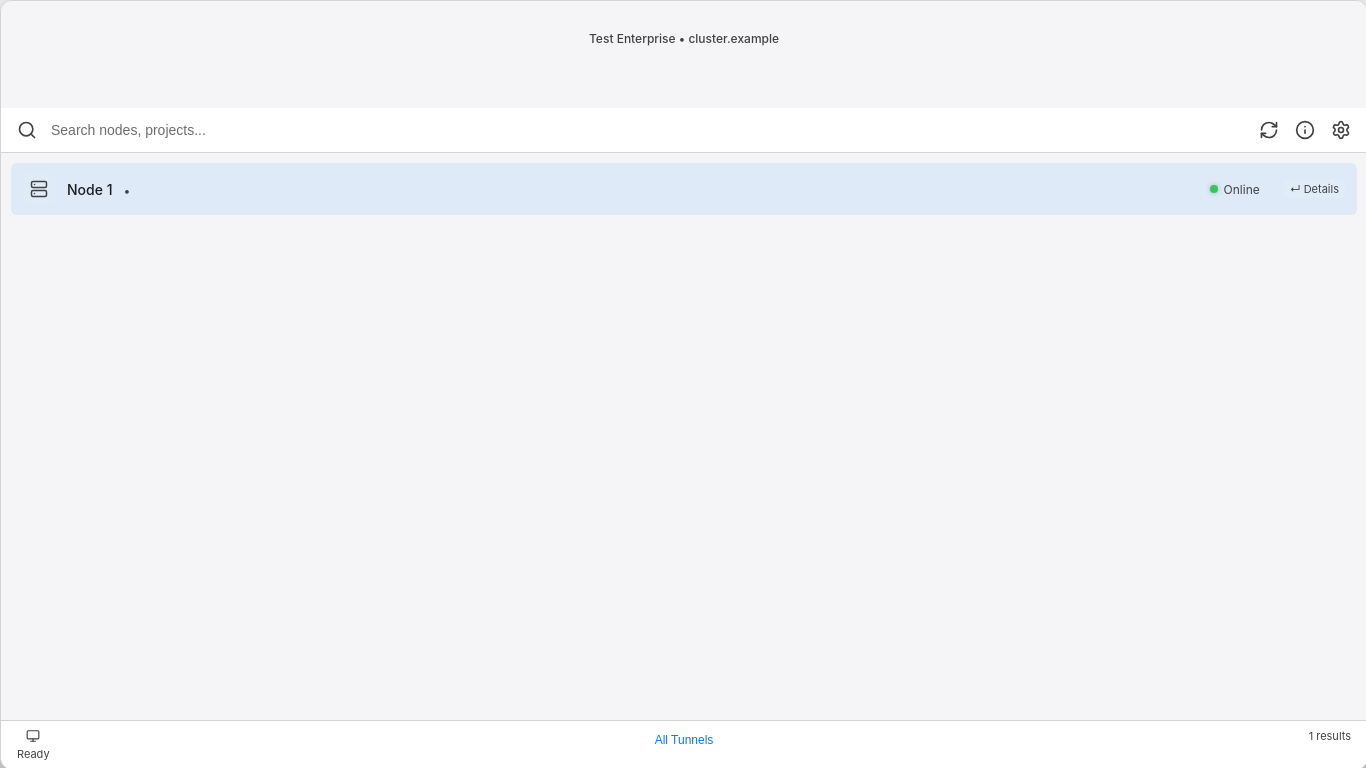
Scenario: App configuration and tunnels › shows inline error in SSH modal on connection failure
The width and height of the screenshot is (1366, 768).
Click the text "Node 1": click(99, 189) [67, 180, 130, 198]
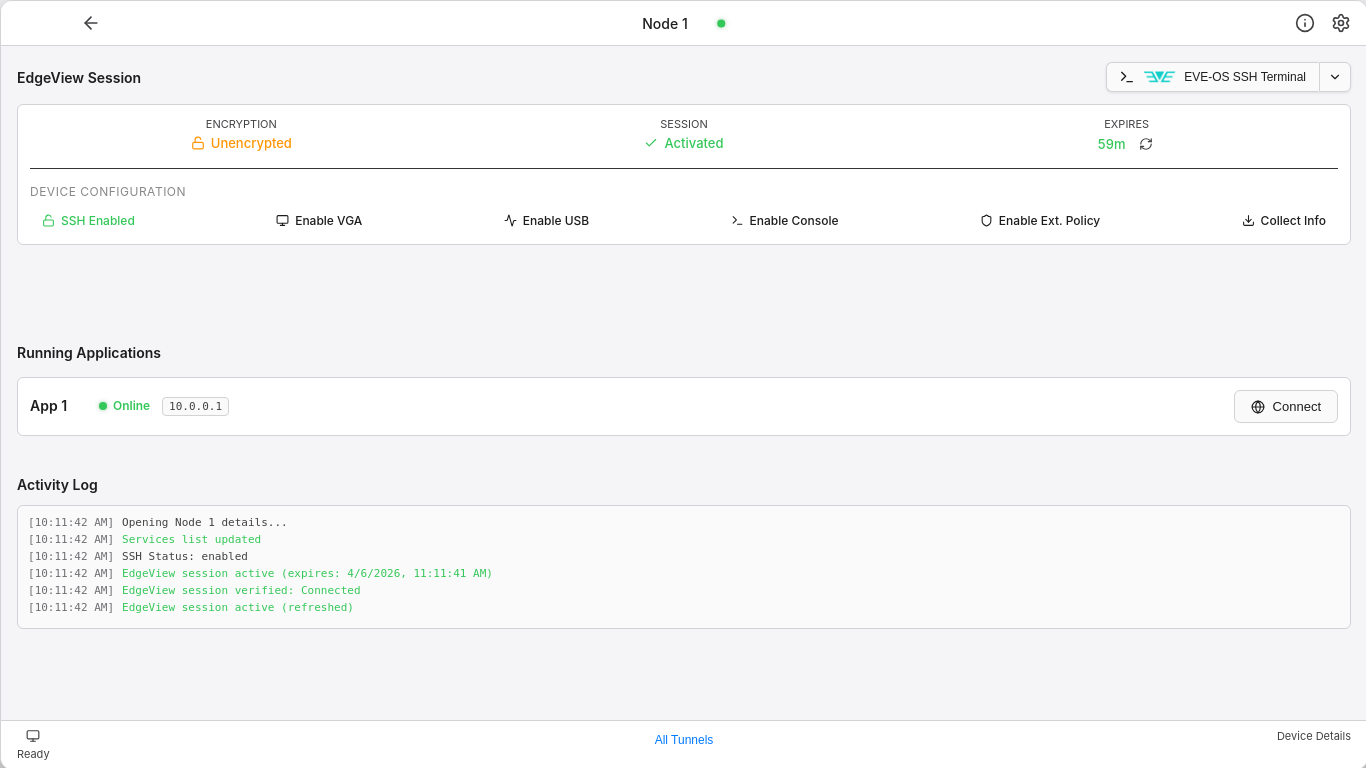
Expected: the heading "Running Applications" is shown, [17, 344, 161, 361]
Click the button "Connect": click(1286, 406) [1234, 390, 1338, 423]
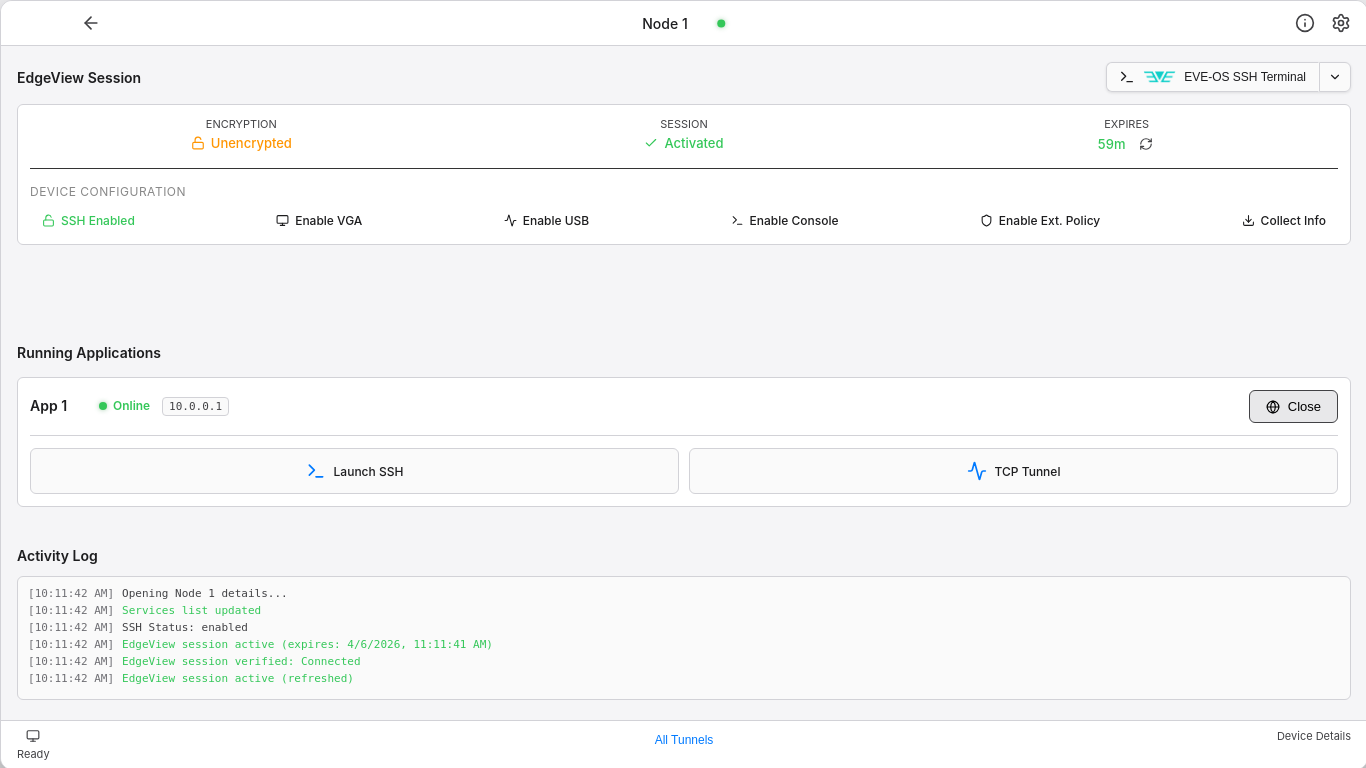
Click the button "Launch SSH": click(354, 471) [30, 448, 679, 494]
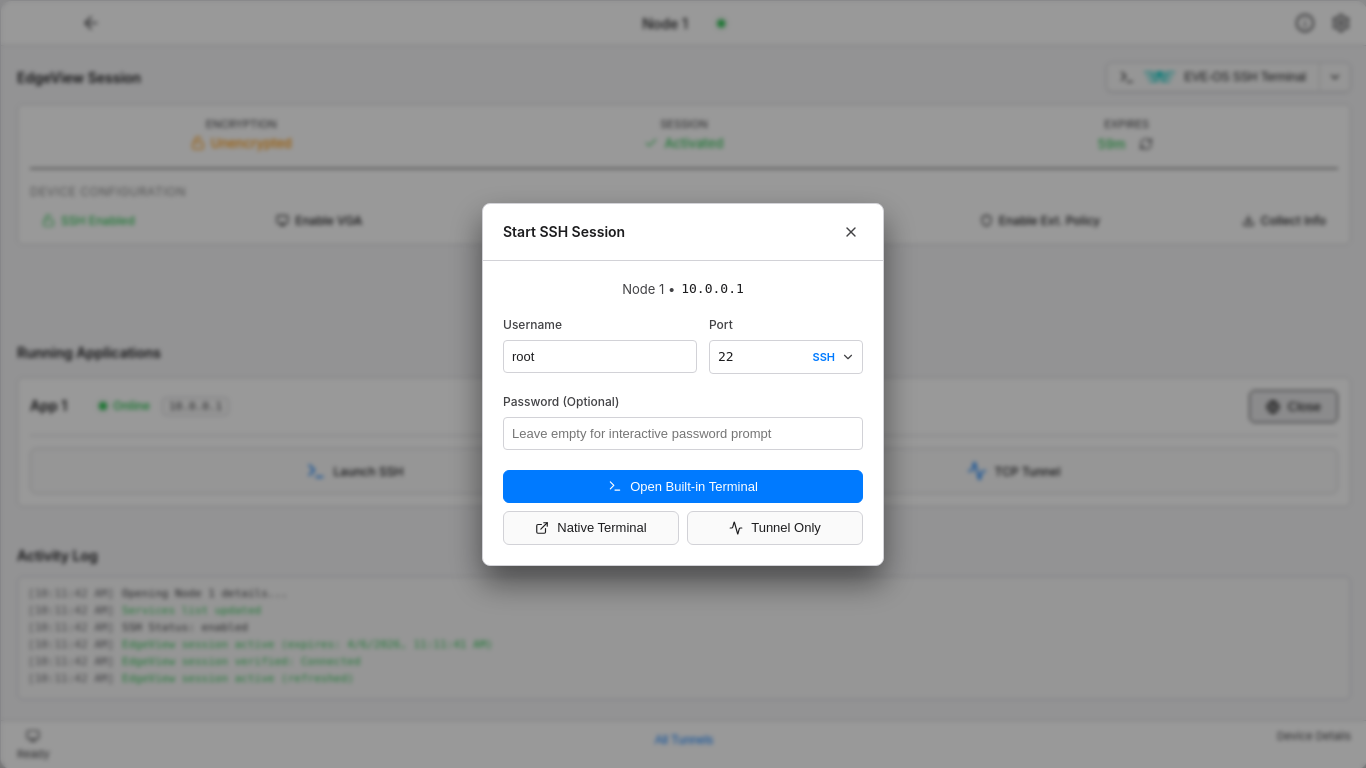
Expected: the heading "Start SSH Session" is shown, [503, 223, 625, 240]
Click the button "Open Built-in Terminal": click(683, 486) [503, 470, 863, 503]
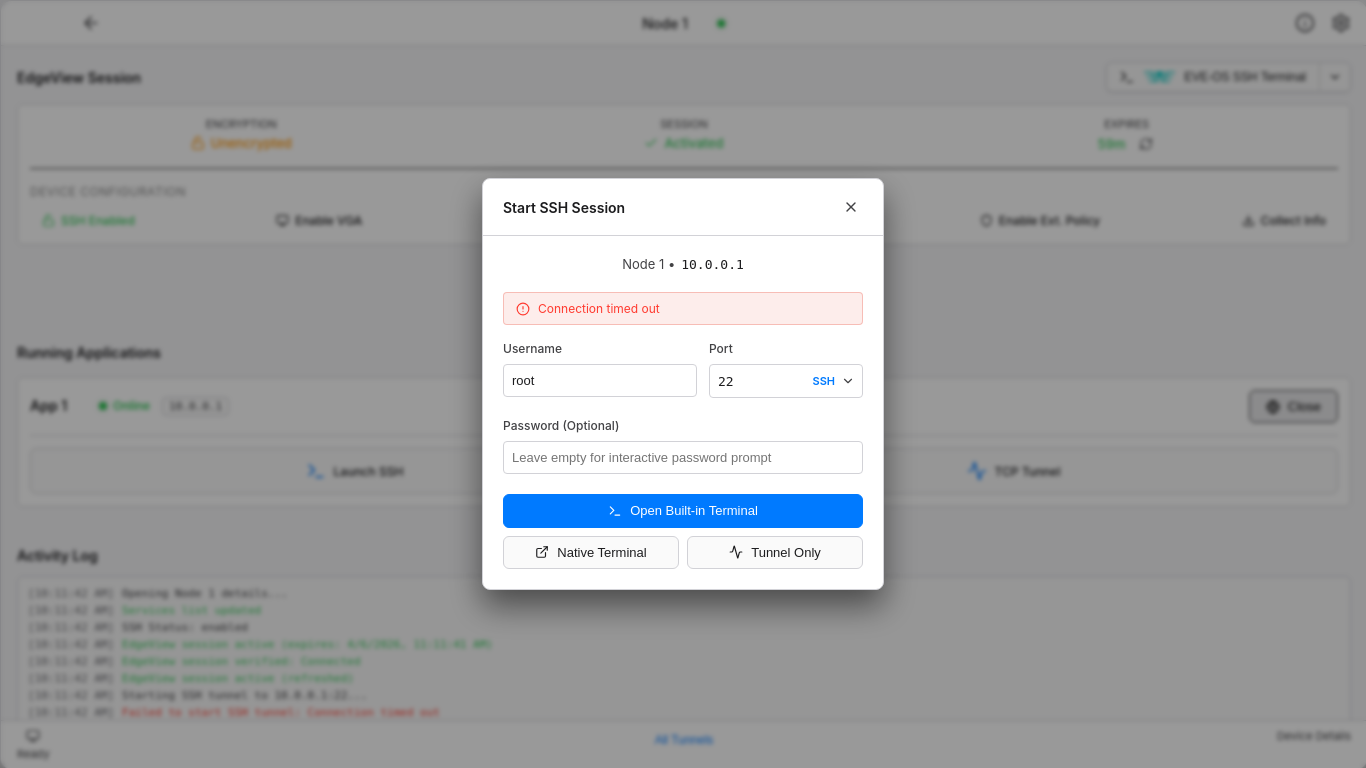
Expected: the text "Connection timed out" is shown, [538, 301, 660, 316]
